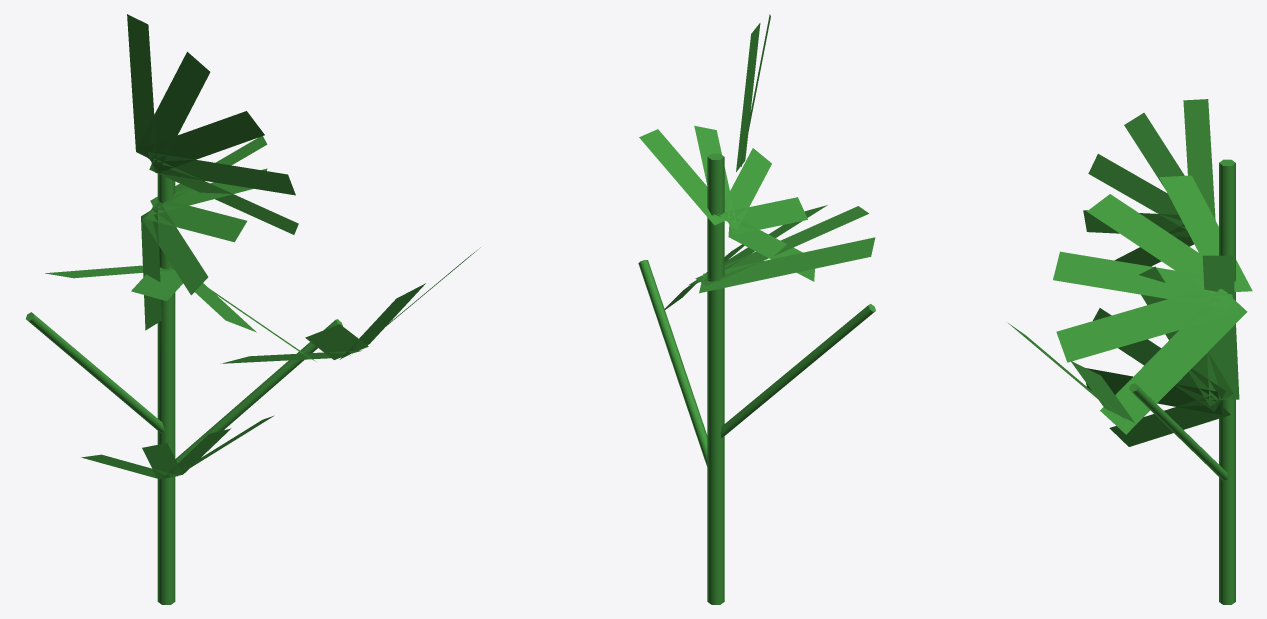
The model's file is plant-stage--veg.glb.
3 views of the same model, side by side, from view 1: azimuth 30°, elevation 25°; view 2: azimuth 150°, elevation 25°; view 3: azimuth 270°, elevation 25° (orthographic). The views are drawn at different scales.
Visible parts, largest first — view 1: plant_leaves, plant_stem; view 2: plant_leaves, plant_stem; view 3: plant_leaves, plant_stem.
Part boxes in pixels (x1,y1,x2,y2): plant_leaves: (45,14,480,479); plant_stem: (26,173,342,604); plant_leaves: (639,14,875,310); plant_stem: (638,153,875,604); plant_leaves: (1008,99,1252,446); plant_stem: (1129,159,1235,604).
Bounding box in the file's own units: 0.3483 × 0.4546 × 0.1948.
